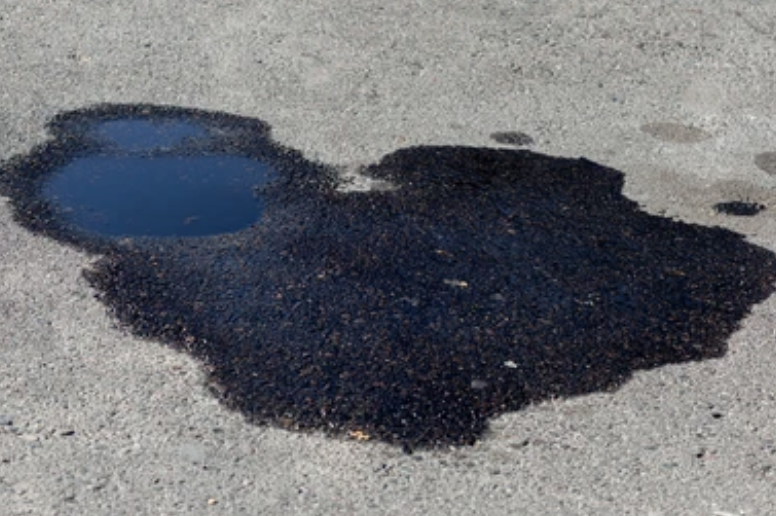oil: (2, 49, 388, 228)
